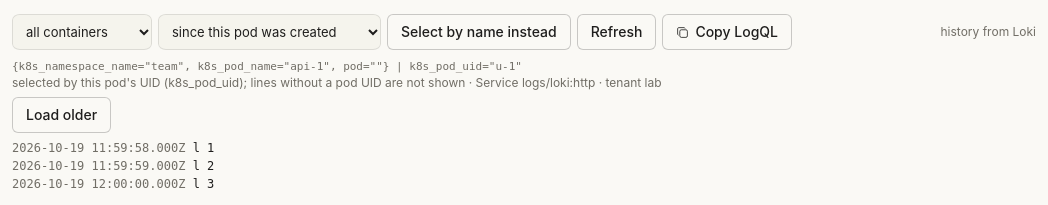
Test case: LogHistoryPane (coverage S8b §7) › a failed Refresh keeps the last good lines, marked; a changed target never shows them (Codex's review of b2f945c)
Click the button "Refresh" at (616, 32), box [577,14,656,50]
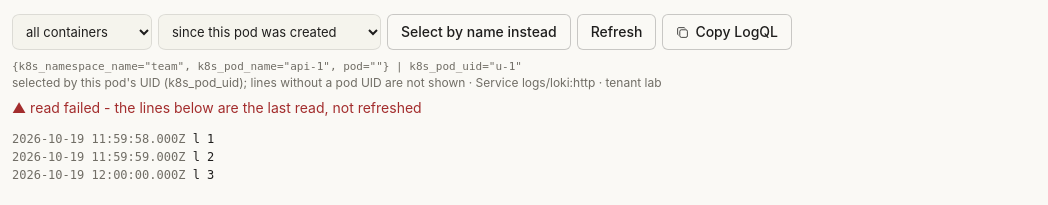
Expected: the text with test id "history-strength" shows "selected by this pod's UID", [12,75,465,90]
Result: the message with test id "history-error" shows "the lines below are the last read, not refreshed" at [100,99,422,116]
# a different range is another target: its failure shows no old lines
Select "1 hour" in the dropdown named "range" at (270, 32), box [158,12,381,52]
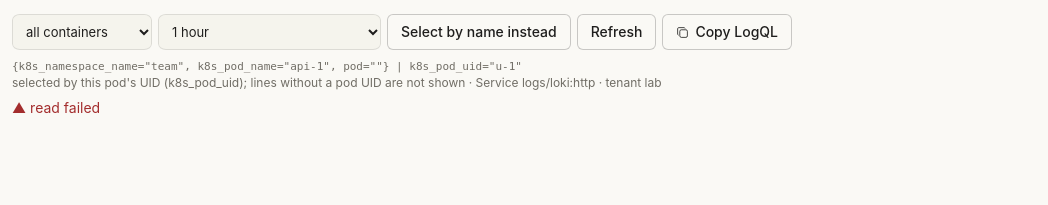
Result: no buttons with test id "history-line" are shown
